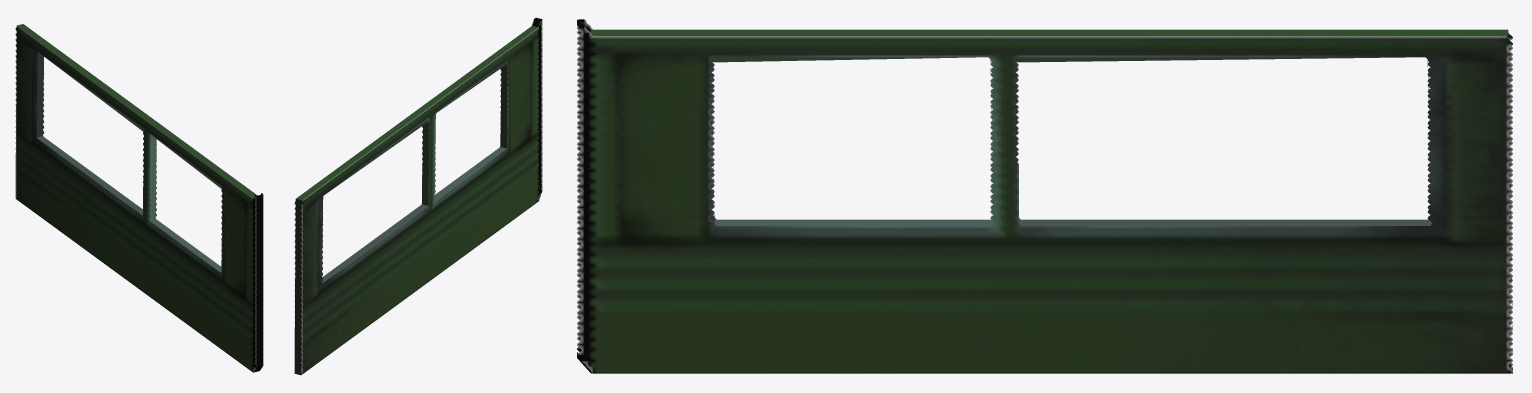
The model's file is pz_native_location_shop_greenes_01_17_frame.obj.
The picture shows the model from 3 angles, left to right: view 1: azimuth 30°, elevation 25°; view 2: azimuth 150°, elevation 25°; view 3: azimuth 270°, elevation 25°; orthographic projection. The views are drawn at different scales.
Parts seen in each view (by area): view 1: pz_native_location_shop_greenes_01_17_frame; view 2: pz_native_location_shop_greenes_01_17_frame; view 3: pz_native_location_shop_greenes_01_17_frame.
Boxes of the visible parts, x1,y1,x2,y2 form: pz_native_location_shop_greenes_01_17_frame: (15,24,263,372); pz_native_location_shop_greenes_01_17_frame: (294,17,542,375); pz_native_location_shop_greenes_01_17_frame: (577,19,1512,373).
Size of the model in its own units: 0.04 by 1.06 by 2.54.
Materials: 1 (1 with a texture image).
